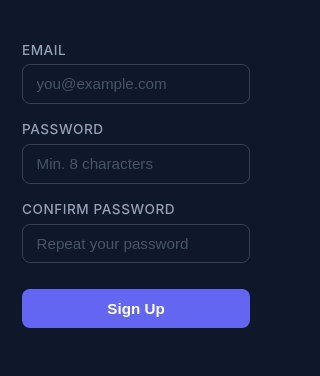
Scenario: SignupForm › shows a duplicate-email error from the API
In the field labelled "Email": coordinates (136, 84) [22,64,250,104], type "dupe@example.com"
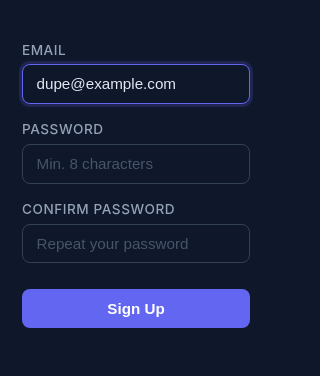
In the password field labelled "Password": coordinates (136, 164) [22,144,250,184], type "password123"
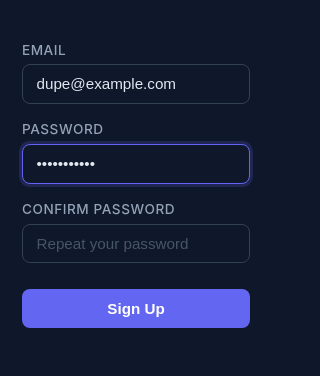
In the password field labelled "Confirm Password": coordinates (136, 244) [22,224,250,263], type "password123"
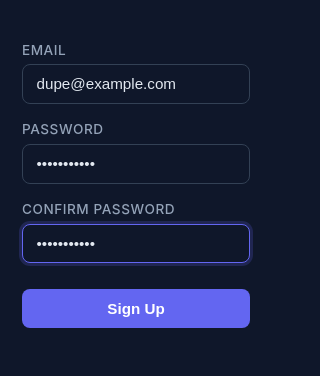
Click the button "Sign Up": coordinates (136, 309) [22,289,250,328]
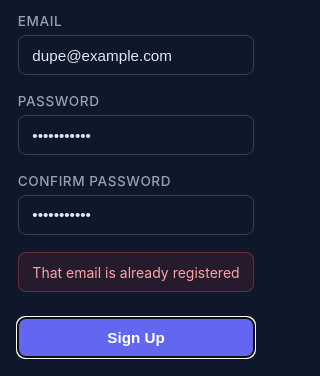
expect the text "That email is already registered" is shown: met, box [18,252,254,292]
